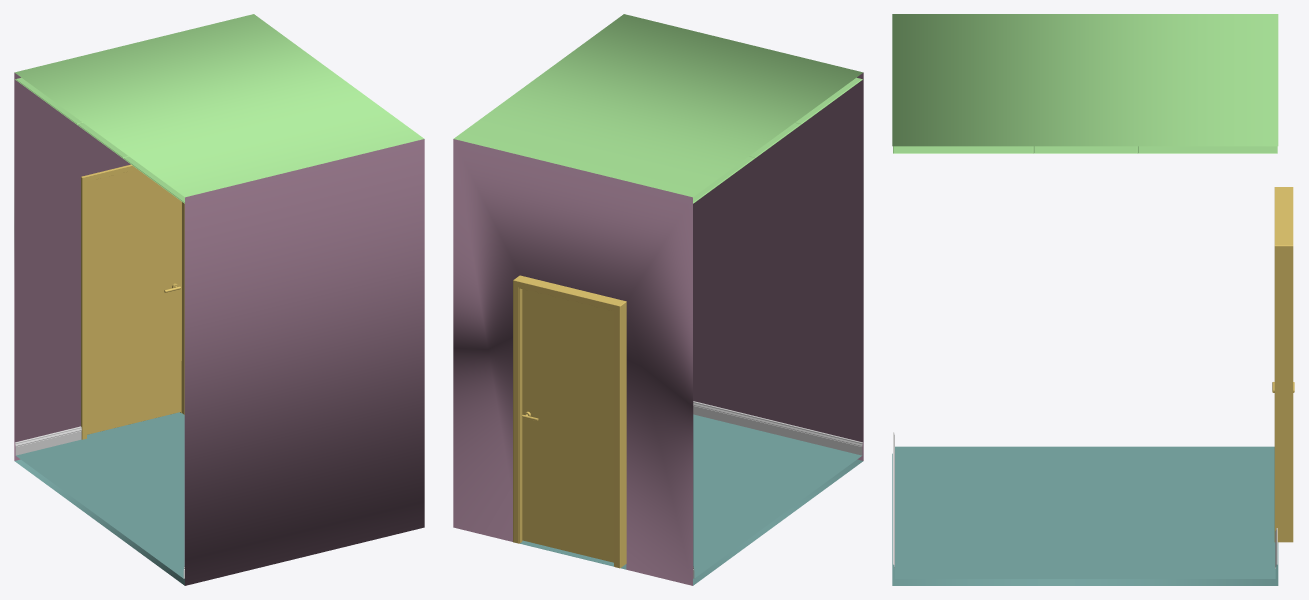
File: Lvl_0_Corridor_1_door.fbx
The picture shows the model from 3 angles, left to right: view 1: azimuth 30°, elevation 25°; view 2: azimuth 150°, elevation 25°; view 3: azimuth 270°, elevation 25°; orthographic projection. The views are drawn at different scales.
Parts seen in each view (by area): view 1: Corridor_wall1, Door, Corridor_floor, Doorframe, Corridor_ceiling; view 2: Corridor_wall1, Door, Corridor_floor, Doorframe, Corridor_ceiling; view 3: Corridor_wall1, Corridor_floor, Doorframe, Corridor_ceiling.
Part boxes in pixels (x1=…): Corridor_wall1: x1=14, y1=14, x2=424, y2=585; Door: x1=87, y1=169, x2=181, y2=434; Corridor_floor: x1=16, y1=414, x2=184, y2=578; Doorframe: x1=81, y1=164, x2=184, y2=439; Corridor_ceiling: x1=15, y1=77, x2=184, y2=203; Corridor_wall1: x1=453, y1=14, x2=863, y2=585; Door: x1=522, y1=289, x2=613, y2=562; Corridor_floor: x1=693, y1=414, x2=861, y2=578; Doorframe: x1=513, y1=275, x2=626, y2=568; Corridor_ceiling: x1=693, y1=77, x2=862, y2=203; Corridor_wall1: x1=892, y1=14, x2=1278, y2=585; Corridor_floor: x1=895, y1=446, x2=1275, y2=578; Doorframe: x1=1274, y1=187, x2=1293, y2=542; Corridor_ceiling: x1=893, y1=146, x2=1277, y2=153.
Bounding box in the file's own units: 2 × 3.1 × 2.57.
